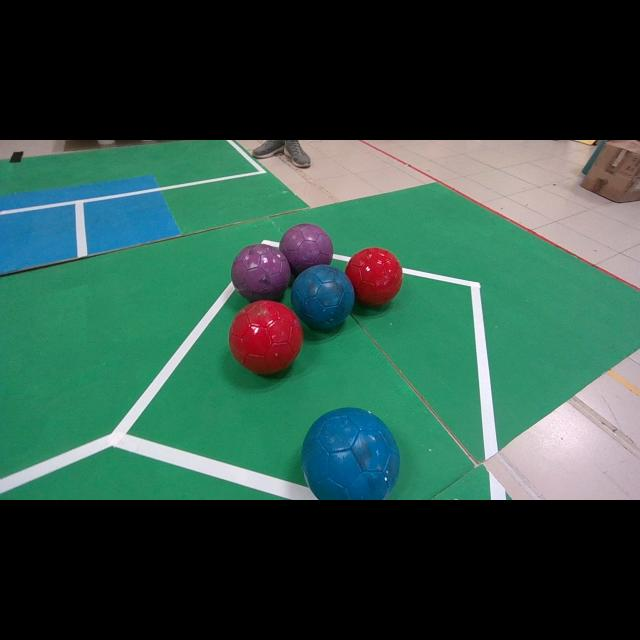B: (301, 408, 400, 499), (291, 265, 355, 330)
P: (231, 244, 291, 301), (279, 224, 334, 275)
R: (229, 300, 304, 374), (345, 248, 402, 306)
